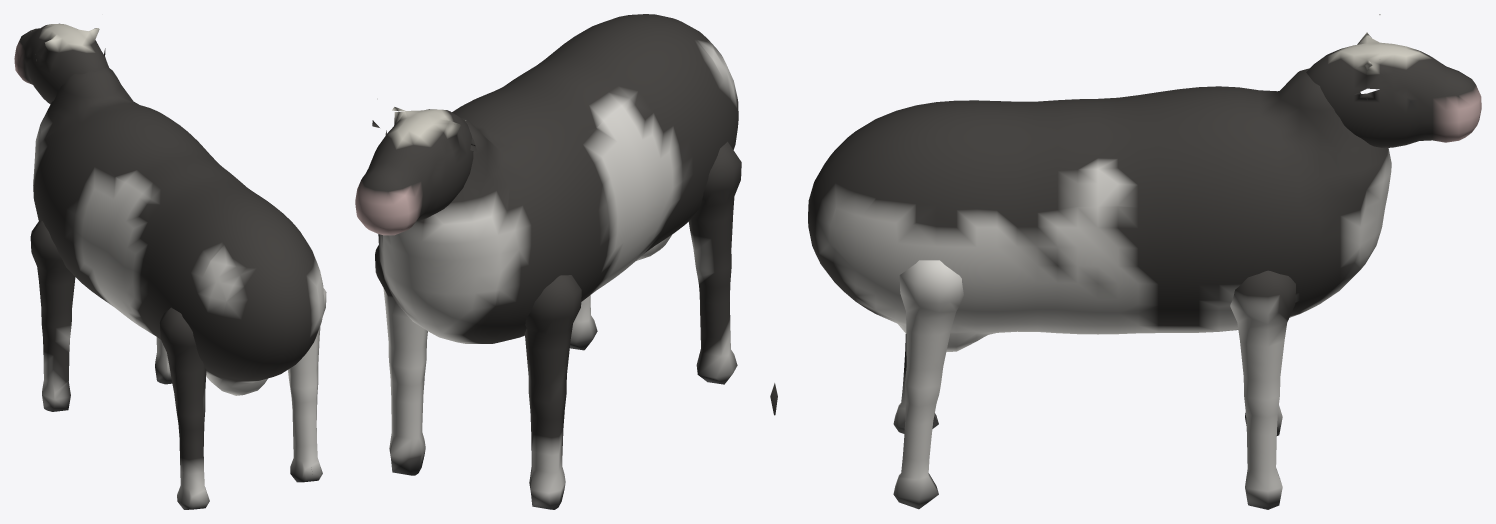
Rendered from animal_cow.glb.
3 renders of one model, left to right at view 1: azimuth 30°, elevation 25°; view 2: azimuth 150°, elevation 25°; view 3: azimuth 270°, elevation 25°, orthographic. The views are drawn at different scales.
Parts seen in each view (by area): view 1: Body, Leg_BL, Leg_FL, Head, Leg_BR, Leg_FR; view 2: Body, Head, Leg_FL, Leg_BL, Leg_FR, Leg_BR; view 3: Body, Head, Leg_BR, Leg_FR.
Part boxes in pixels (box(x1,y1,x2,y2)): Body: box(33, 66, 324, 395); Leg_BL: box(159, 307, 209, 509); Leg_FL: box(30, 220, 75, 411); Head: box(14, 23, 108, 104); Leg_BR: box(288, 288, 326, 482); Leg_FR: box(155, 337, 172, 384); Body: box(378, 14, 738, 343); Head: box(355, 98, 477, 235); Leg_FL: box(524, 275, 581, 509); Leg_BL: box(688, 141, 741, 384); Leg_FR: box(375, 245, 427, 475); Leg_BR: box(570, 295, 597, 350); Body: box(808, 68, 1391, 351); Head: box(1306, 14, 1481, 148); Leg_BR: box(893, 260, 963, 509); Leg_FR: box(1230, 270, 1295, 509).
Bounding box in the file's own units: 0.8154 × 1.66 × 2.47.
